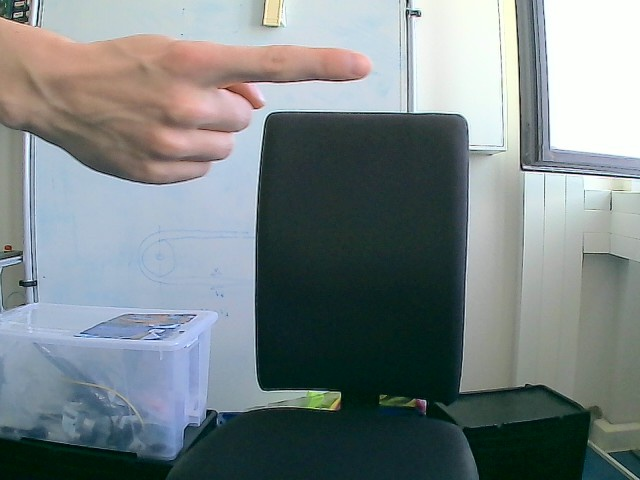left: (1, 16, 373, 186)
